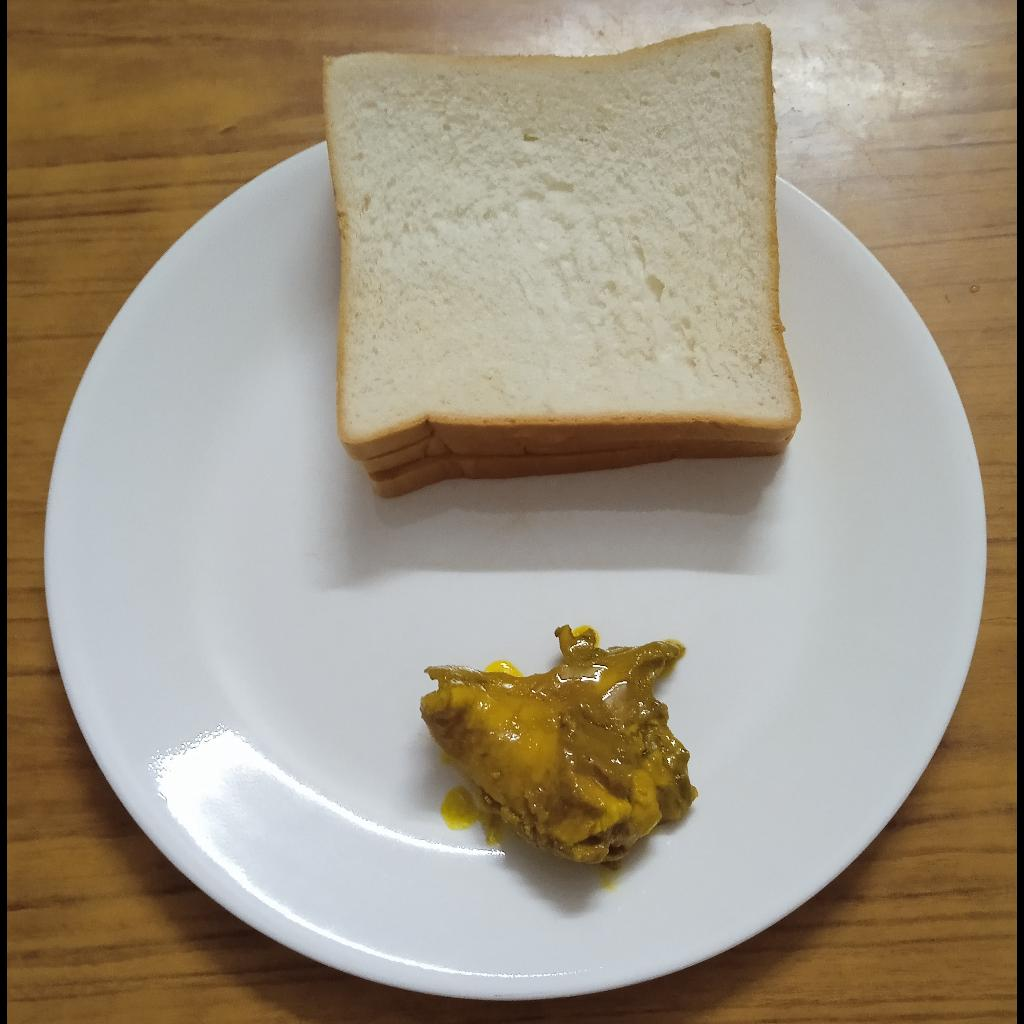bread: (319, 22, 803, 498)
chicken: (420, 623, 698, 864)
